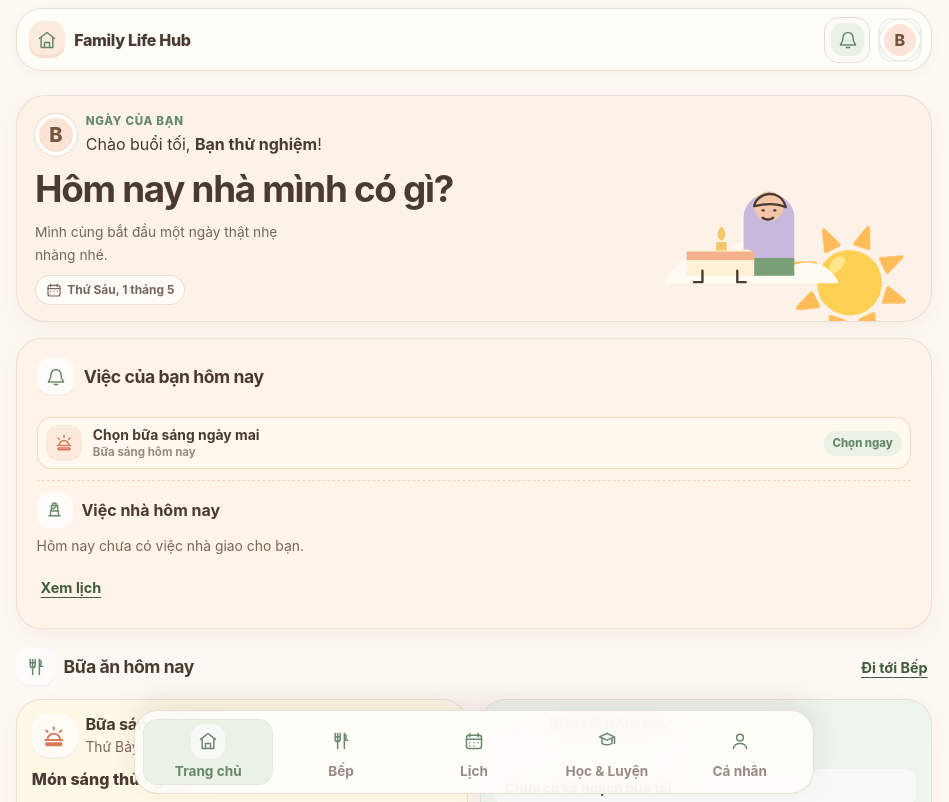
Test: warm role-aware Home › refreshes completed actions when returning Home
expect the button "Chọn bữa sáng ngày mai Bữa sáng hôm nay Chọn ngay" is shown: met, box x1=37 y1=417 x2=911 y2=469
Click the button "Cá nhân": (740, 752) x1=674 y1=719 x2=805 y2=785
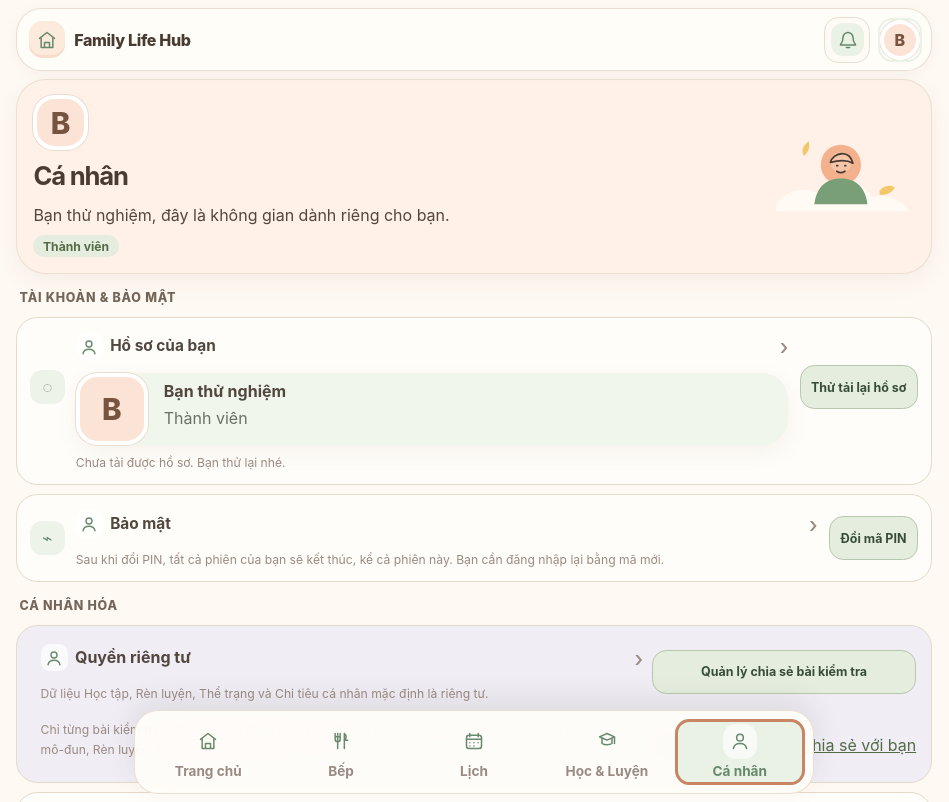
Click the button "Trang chủ": (208, 752) x1=143 y1=719 x2=274 y2=785
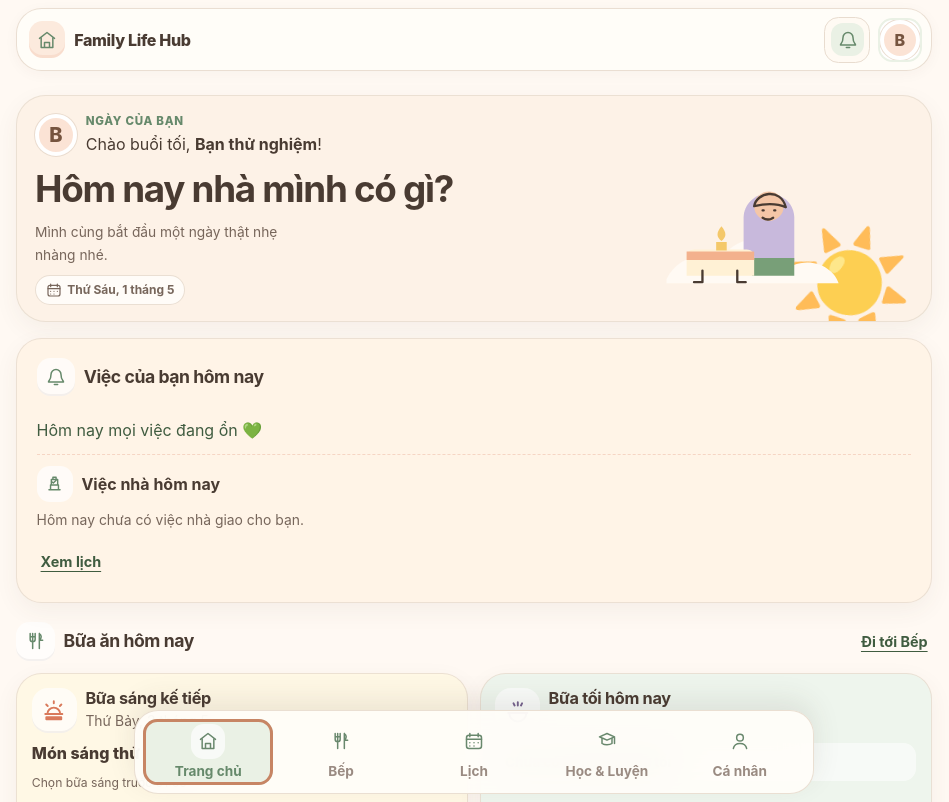
expect the button "Chọn bữa sáng ngày mai" is not shown: met
expect the text "Hôm nay mọi việc đang ổn 💚" is shown: met, box x1=37 y1=420 x2=262 y2=440
